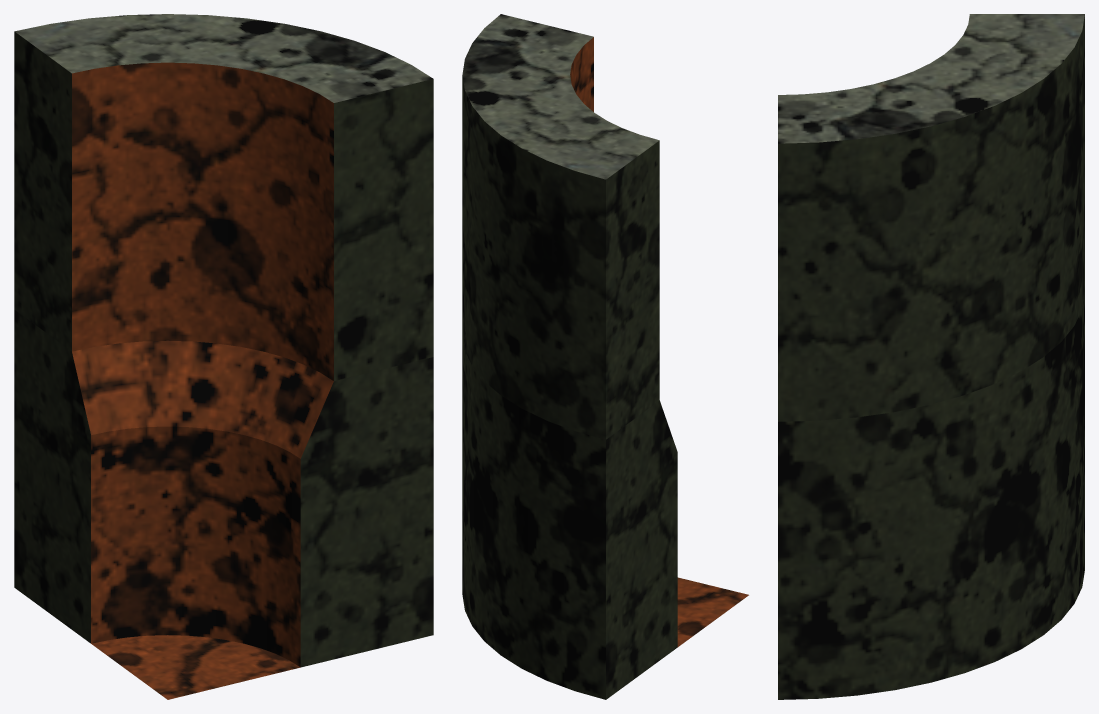
The model's file is Env_Ctn_Wall_Corner_Outside_CW.fbx.
The picture shows the model from 3 angles, left to right: view 1: azimuth 30°, elevation 25°; view 2: azimuth 150°, elevation 25°; view 3: azimuth 270°, elevation 25°; orthographic projection. The views are drawn at different scales.
Visible parts, largest first — view 1: Wall_Corner_Outside_Top, Wall_Corner_Outside, Floor_Edge_Corner_Outside; view 2: Wall_Corner_Outside_Top, Wall_Corner_Outside, Floor_Edge_Corner_Outside; view 3: Wall_Corner_Outside_Top, Wall_Corner_Outside.
Part boxes in pixels (<box>): Wall_Corner_Outside_Top: <box>14,14,433,381</box>; Wall_Corner_Outside: <box>14,310,433,667</box>; Floor_Edge_Corner_Outside: <box>91,635,300,699</box>; Wall_Corner_Outside_Top: <box>462,14,659,439</box>; Wall_Corner_Outside: <box>462,335,677,699</box>; Floor_Edge_Corner_Outside: <box>677,577,748,646</box>; Wall_Corner_Outside_Top: <box>778,14,1084,421</box>; Wall_Corner_Outside: <box>778,293,1084,699</box>.
Bounding box in the file's own units: 100 × 200 × 100.
